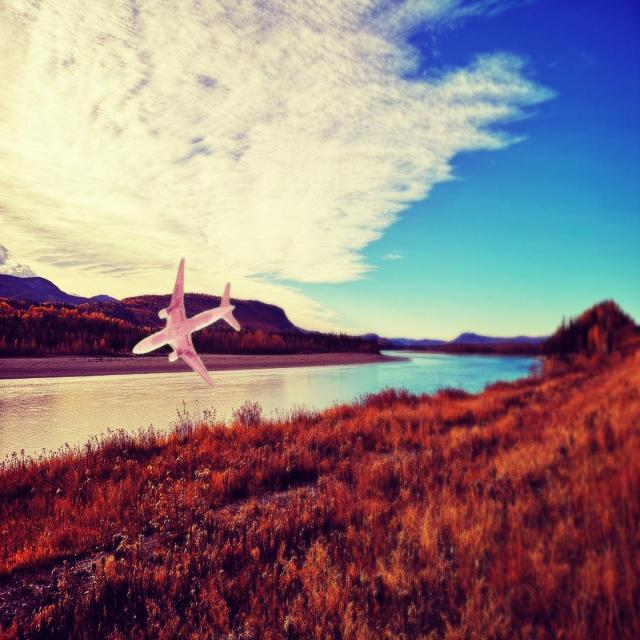airplane: (132, 256, 240, 388)
